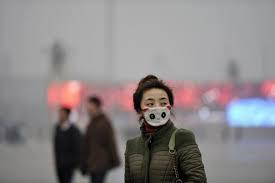OK: (142, 94, 171, 128)
